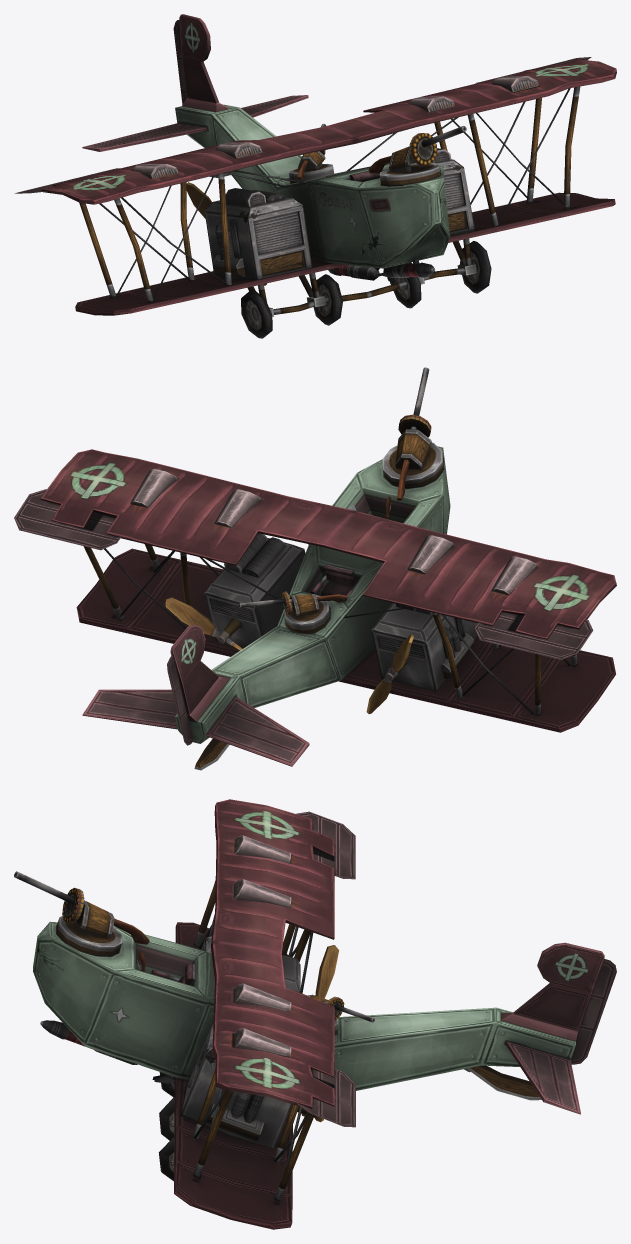
The model's file is gothabomber_stylised_plane.glb.
The picture shows the model from 3 angles, top to bottom: view 1: azimuth 30°, elevation 25°; view 2: azimuth 150°, elevation 25°; view 3: azimuth 270°, elevation 25°; orthographic projection. The views are drawn at different scales.
Parts seen in each view (by area): view 1: Airplane; view 2: Airplane; view 3: Airplane.
Part boxes in pixels (left/top/right/bottom): Airplane: left=14, top=14, right=616, bottom=338; Airplane: left=14, top=367, right=616, bottom=770; Airplane: left=14, top=799, right=616, bottom=1229.
Bounding box in the file's own units: 360 × 148 × 305.
1 material, 1 textured.
